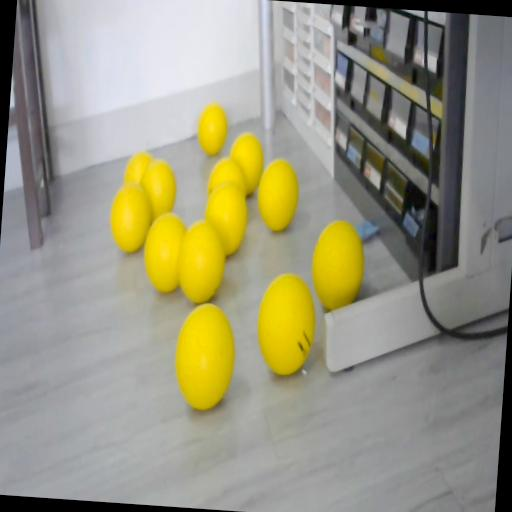FUEL: (172, 300, 238, 410), (254, 270, 320, 376), (308, 218, 368, 313), (140, 210, 188, 294), (202, 180, 250, 258), (255, 157, 302, 234), (108, 180, 154, 254), (226, 131, 266, 195), (195, 101, 229, 157), (123, 149, 155, 188)
